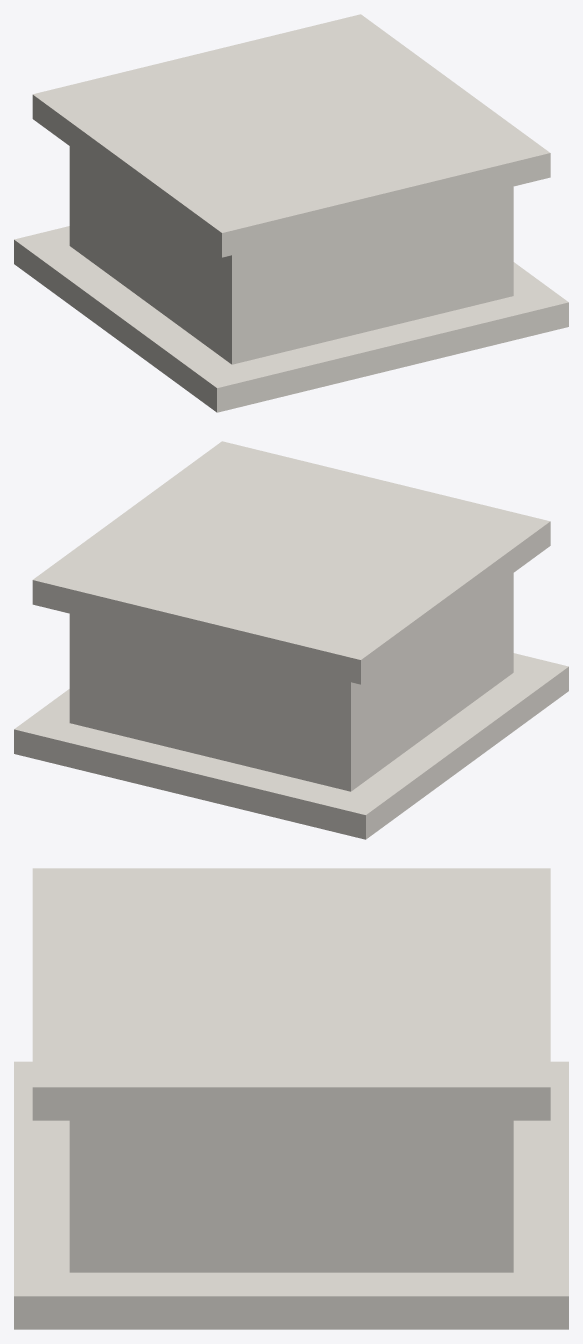
File: prop_pedestal.glb
The picture shows the model from 3 angles, top to bottom: view 1: azimuth 30°, elevation 25°; view 2: azimuth 150°, elevation 25°; view 3: azimuth 270°, elevation 25°; orthographic projection. The views are drawn at different scales.
Parts seen in each view (by area): view 1: pedestal; view 2: pedestal; view 3: pedestal.
Boxes of the visible parts, x1,y1,x2,y2 form: pedestal: (14, 14, 568, 412); pedestal: (14, 441, 568, 839); pedestal: (14, 868, 568, 1329).
Bounding box in the file's own units: 0.3 × 0.14 × 0.3.
Materials: 1 (1 with a texture image).
